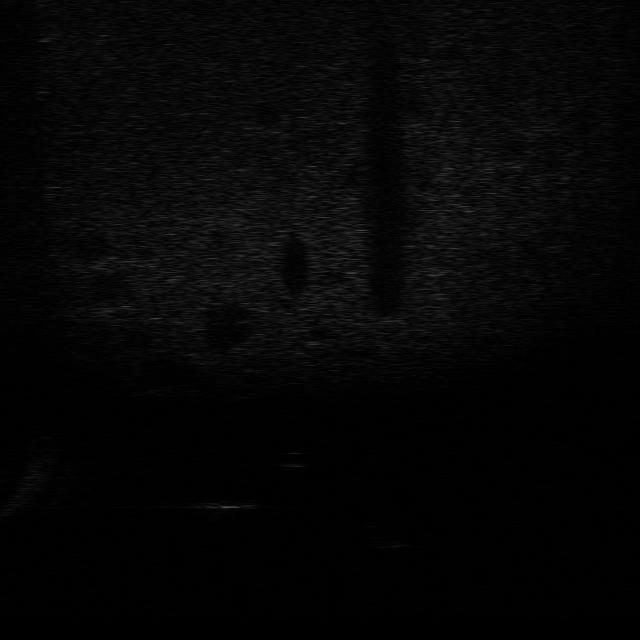ball: (270, 446, 318, 474)
square cage: (190, 493, 262, 519)
tyre: (355, 516, 415, 553)
